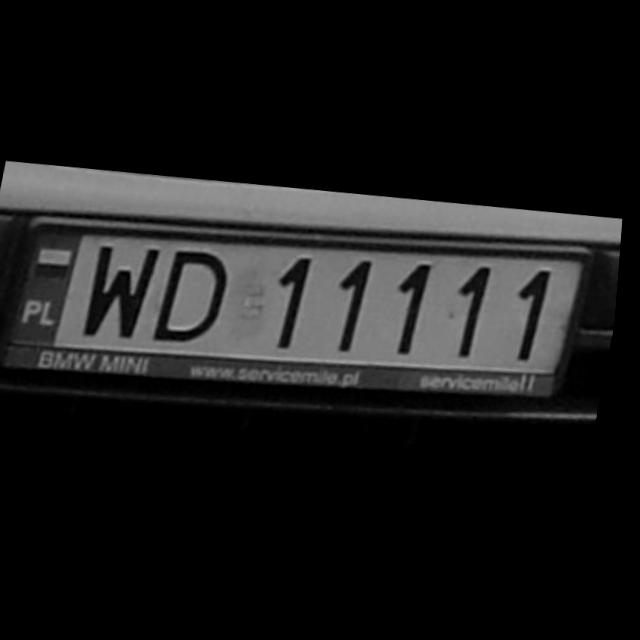license-plates: (8, 227, 579, 373)
